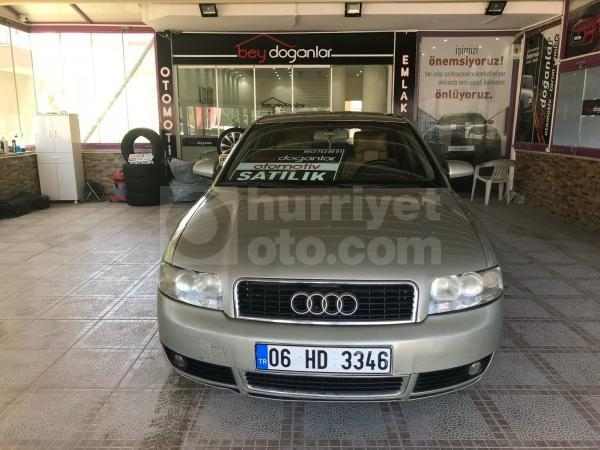audi: (282, 288, 366, 321)
